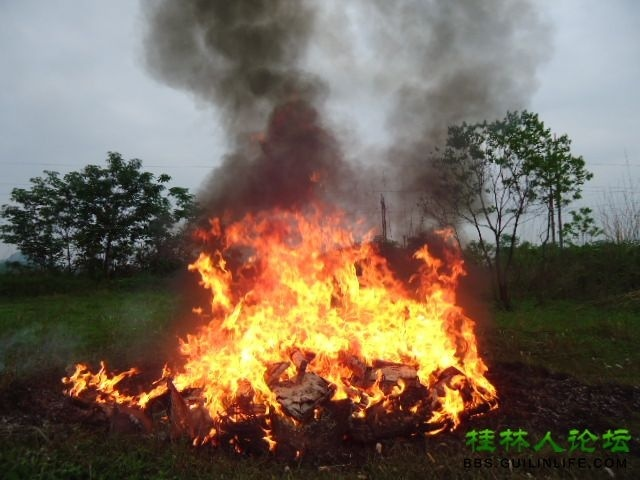fire: (82, 198, 510, 441)
